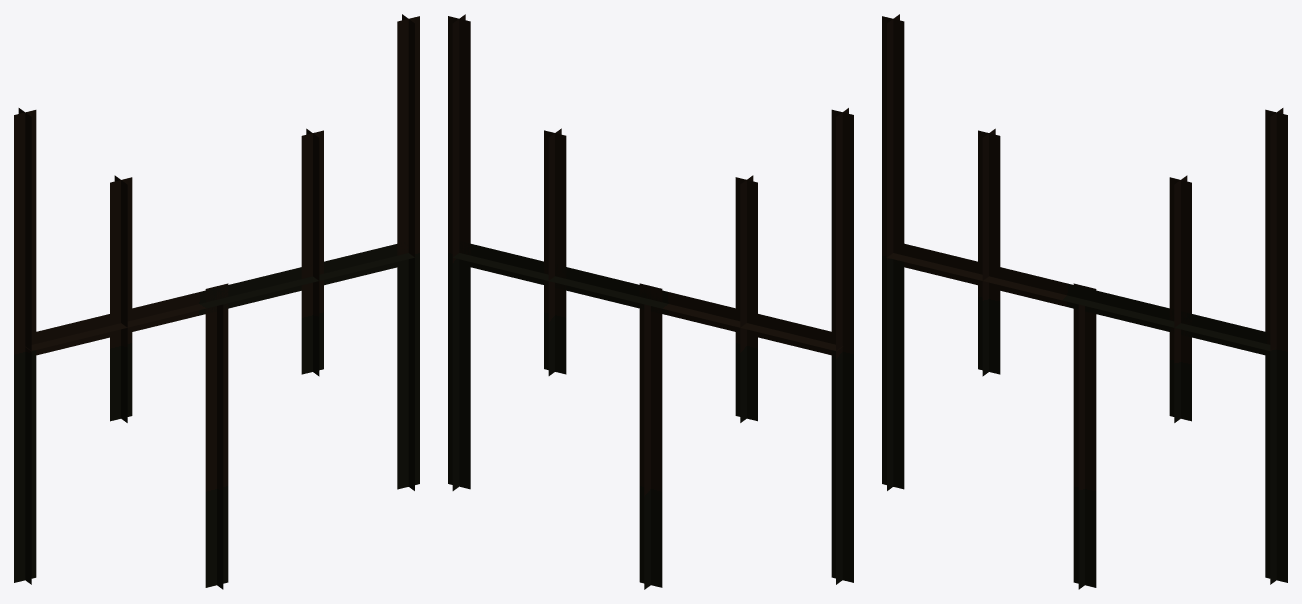
Rendered from M5_TV_Ariel.glb.
3 renders of one model, left to right at view 1: azimuth 30°, elevation 25°; view 2: azimuth 150°, elevation 25°; view 3: azimuth 330°, elevation 25°, orthographic.
Visible parts, largest first — view 1: M5_TV_ARIEL; view 2: M5_TV_ARIEL; view 3: M5_TV_ARIEL.
Part boxes in pixels (x1=…): M5_TV_ARIEL: x1=14, y1=14, x2=419, y2=589; M5_TV_ARIEL: x1=448, y1=14, x2=853, y2=589; M5_TV_ARIEL: x1=882, y1=14, x2=1287, y2=589.
Size of the model in its own units: 1.63 by 2 by 0.091.
Materials: 1 (1 with a texture image).
